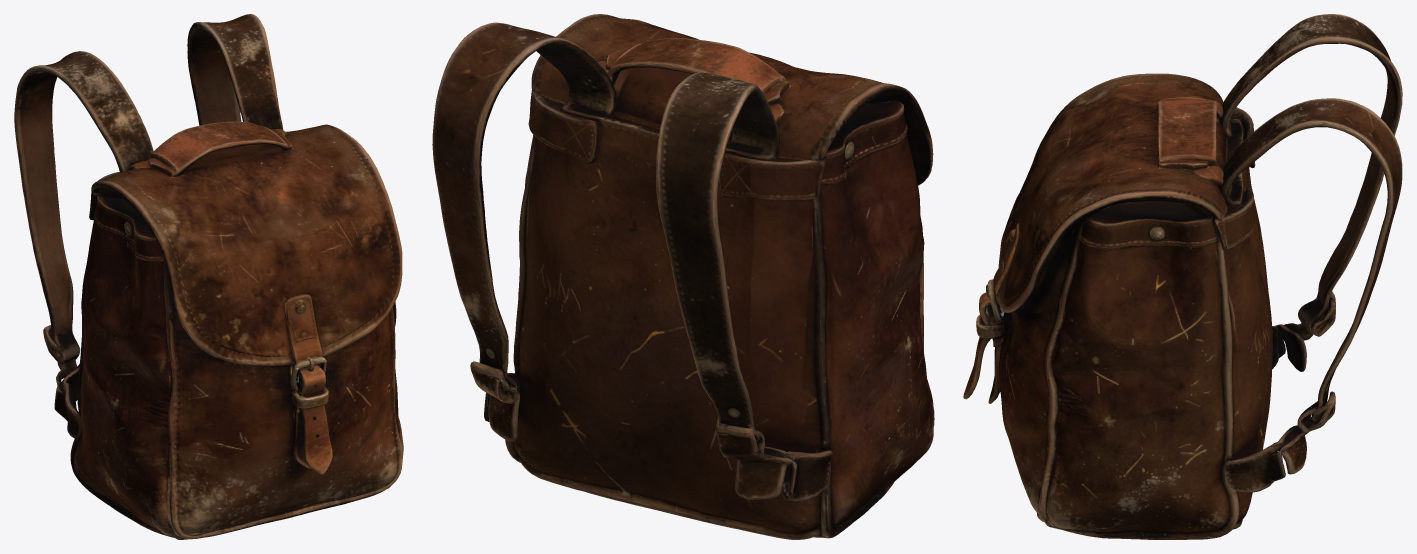
Rendered from Sacoche.glb.
The picture shows the model from 3 angles, left to right: view 1: azimuth 30°, elevation 25°; view 2: azimuth 150°, elevation 25°; view 3: azimuth 270°, elevation 25°; orthographic projection. The views are drawn at different scales.
Visible parts, largest first — view 1: world; view 2: world; view 3: world.
Boxes of the visible parts, <box> form: world: <box>14,14,403,539</box>; world: <box>432,14,934,539</box>; world: <box>963,14,1402,539</box>.
Bounding box in the file's own units: 1.46 × 1.98 × 1.9.
Materials: 1 (1 with a texture image).
